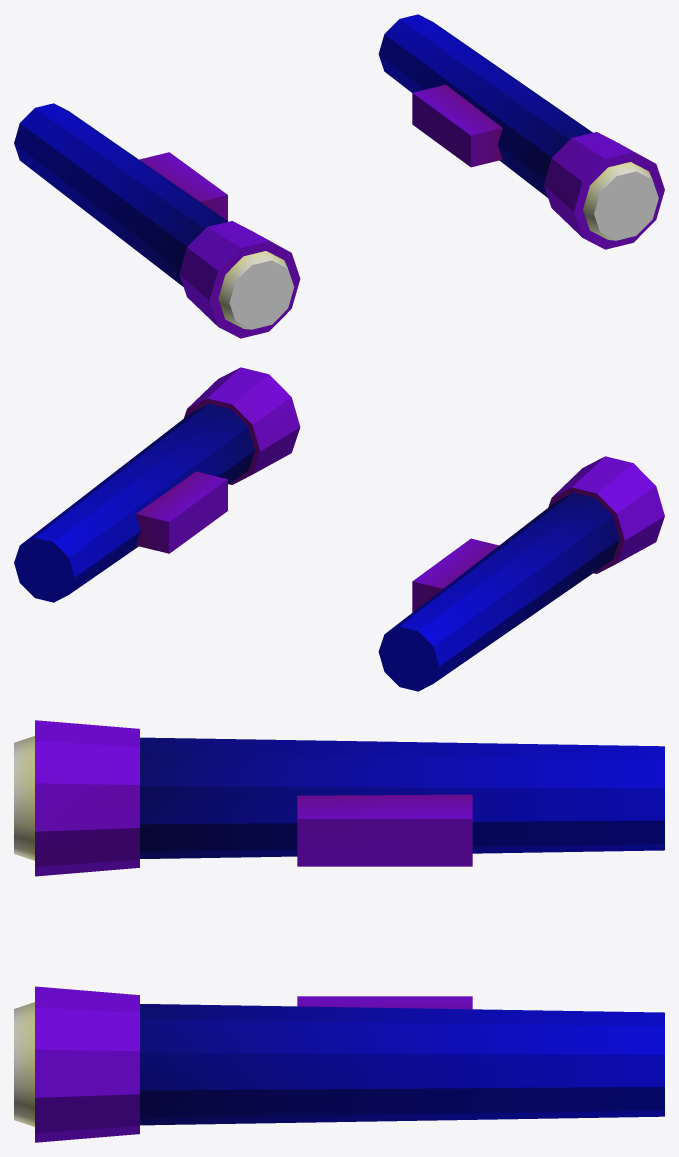
Rendered from module_afterburners.fbx.
3 renders of one model, top to bottom at view 1: azimuth 30°, elevation 25°; view 2: azimuth 150°, elevation 25°; view 3: azimuth 270°, elevation 25°, orthographic. The views are drawn at different scales.
Parts seen in each view (by area): view 1: module_afterburners; view 2: module_afterburners; view 3: module_afterburners.
Boxes of the visible parts, <box> form: module_afterburners: <box>14,14,664,338</box>; module_afterburners: <box>14,367,664,691</box>; module_afterburners: <box>14,720,664,1142</box>.
Bounding box in the file's own units: 0.45 × 0.0856 × 0.372.
